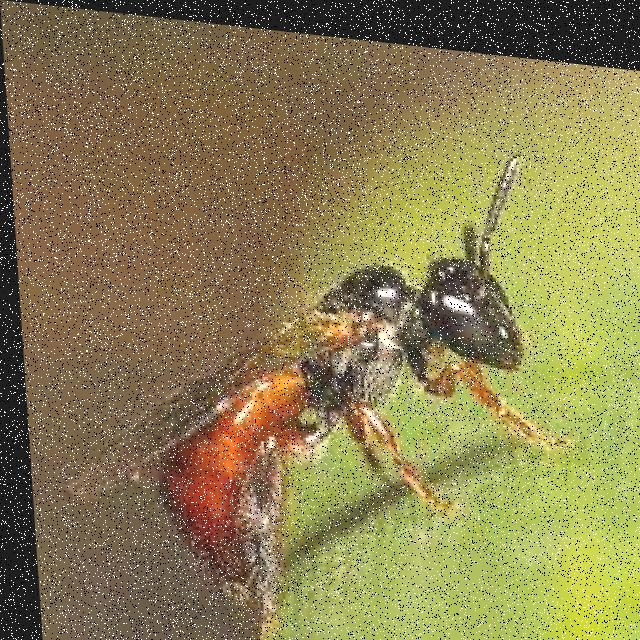Allodapula: (26, 88, 568, 640)
